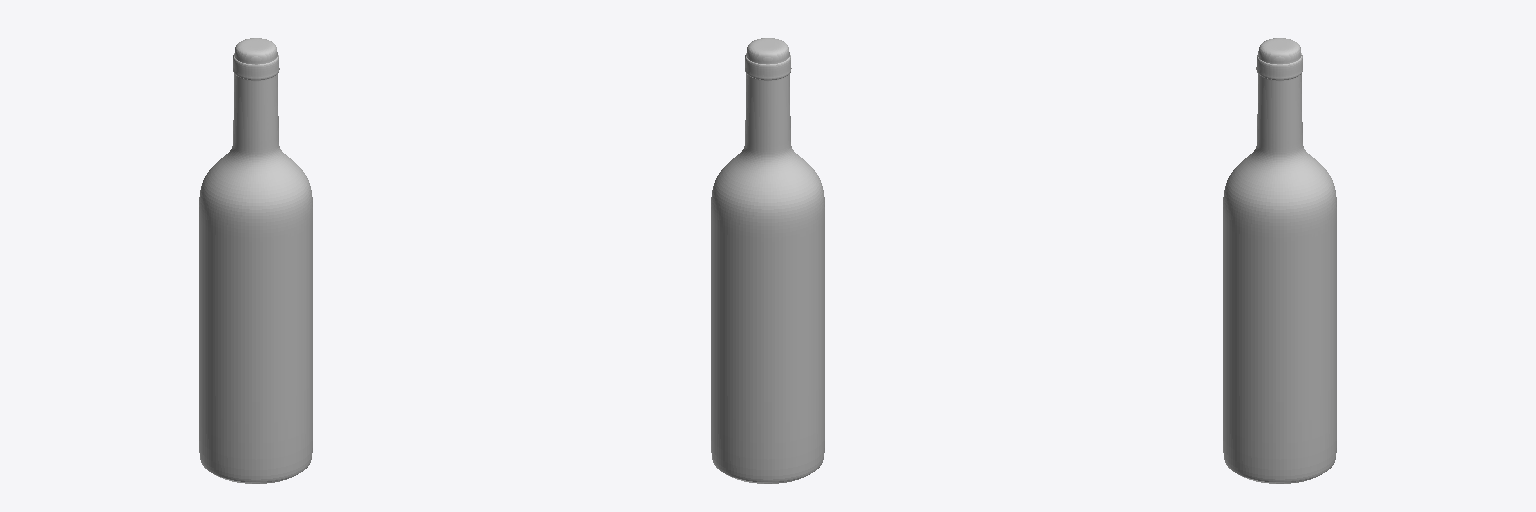
The model's file is bottle.obj.
3 renders of one model, left to right at view 1: azimuth 30°, elevation 25°; view 2: azimuth 150°, elevation 25°; view 3: azimuth 270°, elevation 25°, orthographic.
Visible parts, largest first — view 1: bottle; view 2: bottle; view 3: bottle.
Boxes of the visible parts, box(x1,y1,x2,y2) form: bottle: box(199, 38, 312, 483); bottle: box(711, 38, 824, 483); bottle: box(1223, 38, 1336, 483).
Bounding box in the file's own units: 5.19 × 21.16 × 5.19.